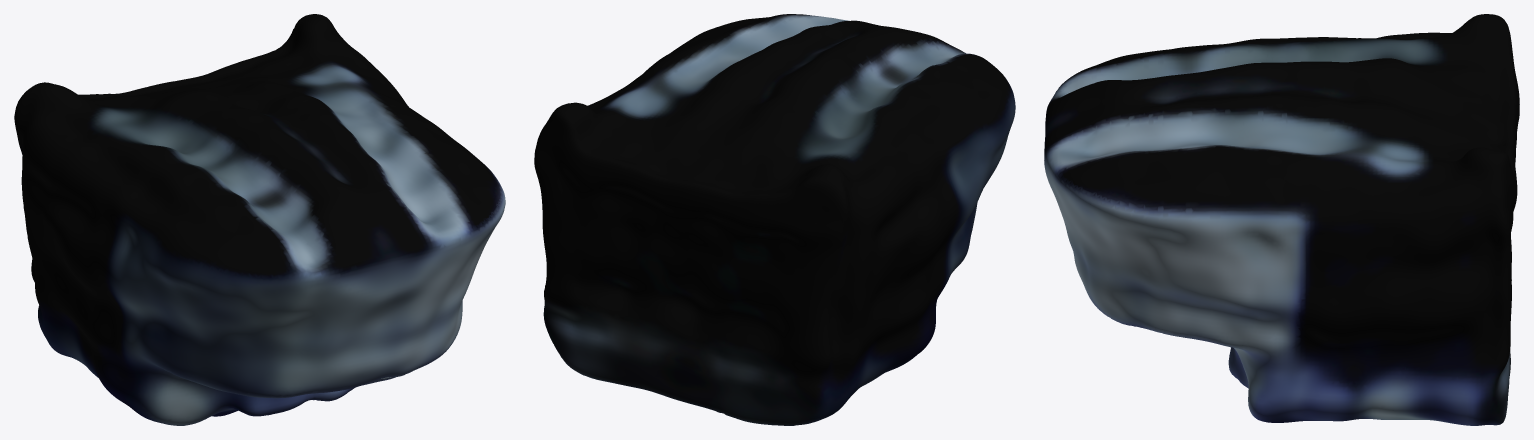
Rendered from backpack.glb.
3 renders of one model, left to right at view 1: azimuth 30°, elevation 25°; view 2: azimuth 150°, elevation 25°; view 3: azimuth 270°, elevation 25°, orthographic. The views are drawn at different scales.
Size of the model in its own units: 0.9061 by 0.7027 by 0.9998.
